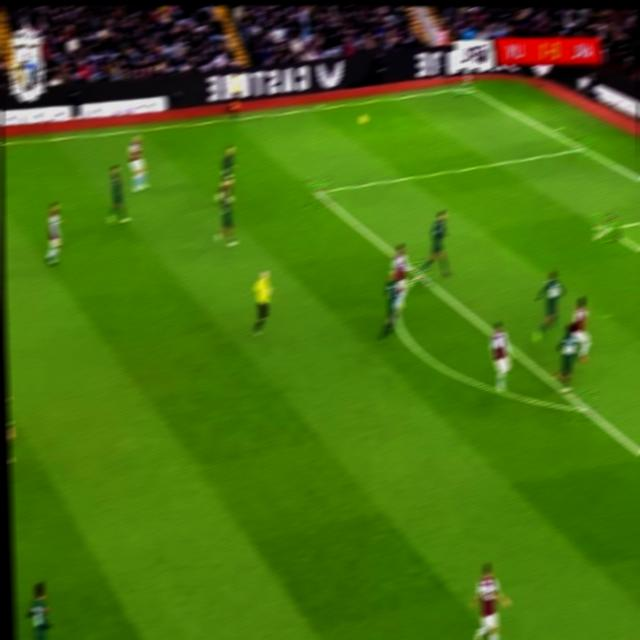bigarea_top_inner: (302, 174, 334, 209)
bigarea_top_outter: (569, 133, 594, 161)
bottom_arc_area_intersection: (568, 389, 599, 424)
corner: (451, 77, 478, 97)
smallarea_top_inner: (592, 211, 621, 243)
top_arc_area_intersection: (406, 258, 432, 288)
